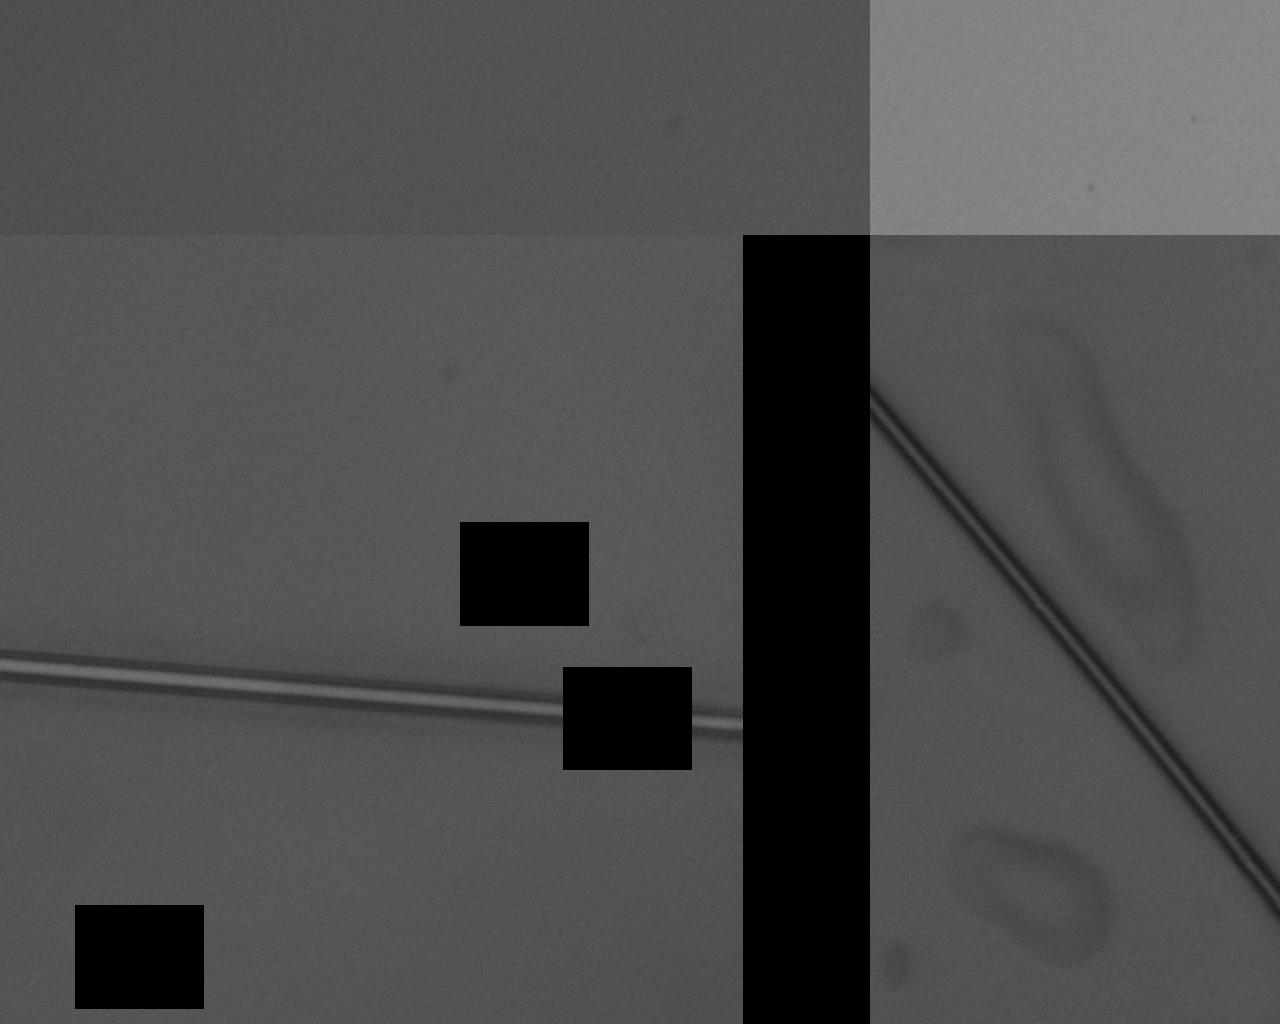fiber: (89, 0, 519, 624), (588, 371, 1280, 624), (626, 876, 1280, 985), (194, 624, 369, 1024)
